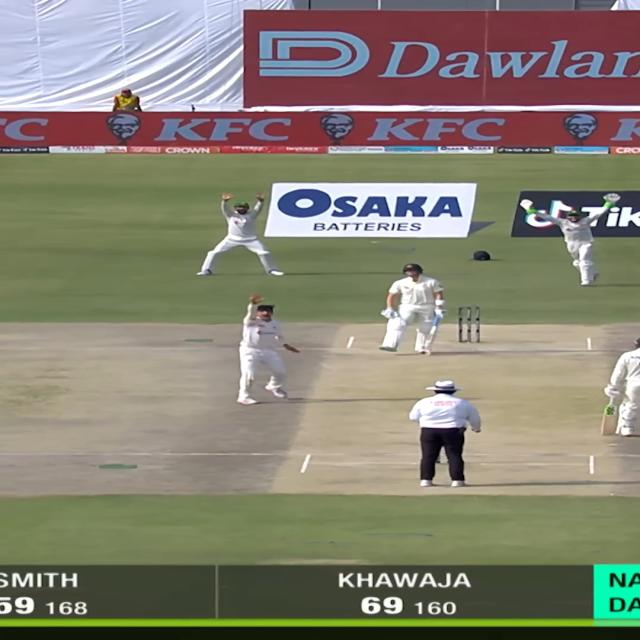stump: (457, 306, 481, 344)
